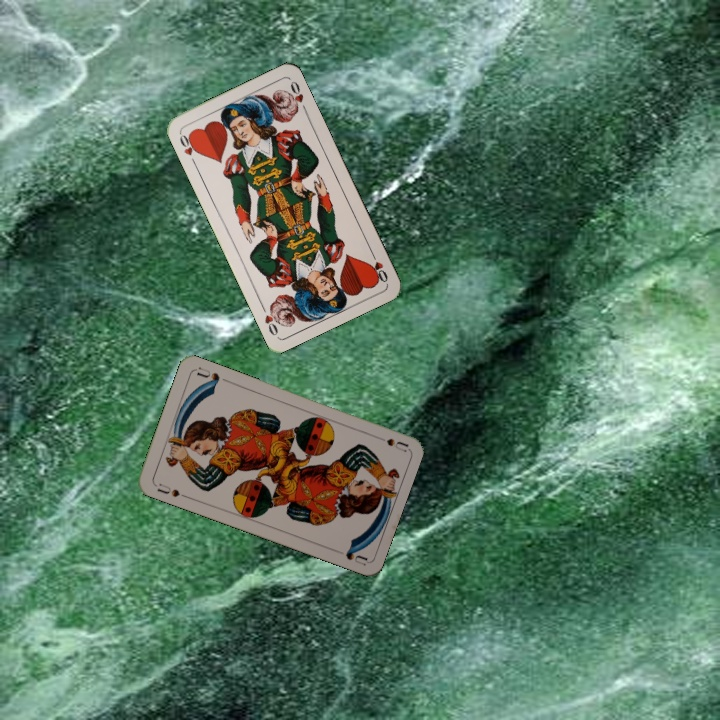HO: (175, 129, 201, 167), (366, 247, 391, 285)
SU: (370, 431, 410, 454), (151, 479, 190, 500)
